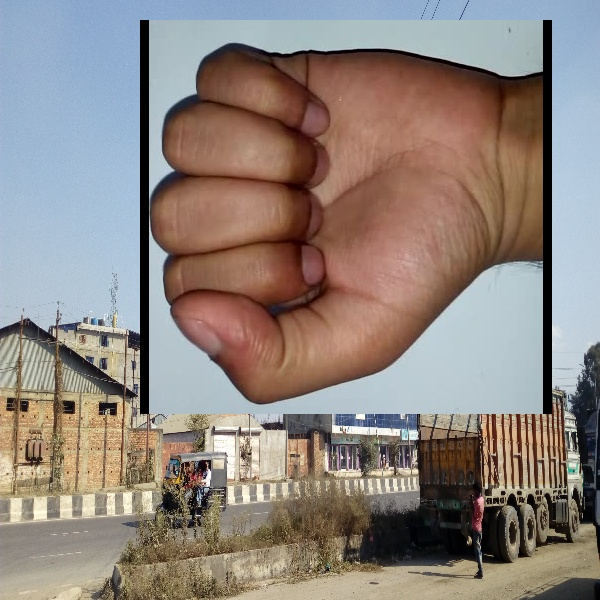A: (140, 20, 552, 414)
